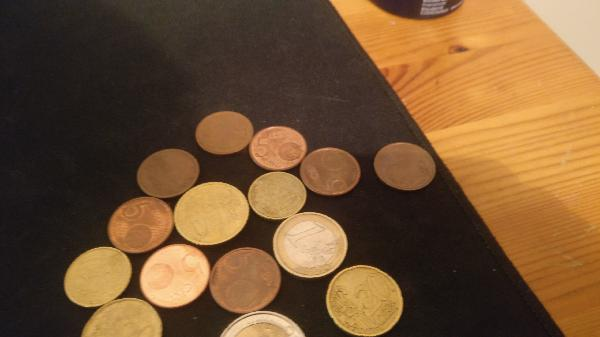Fifty Cent: (178, 183, 248, 241)
Five Cent: (137, 242, 209, 312), (209, 245, 284, 309), (105, 197, 174, 252), (135, 149, 199, 200), (374, 142, 435, 191), (304, 149, 364, 198), (195, 109, 253, 156), (253, 125, 308, 174)
One Euro: (271, 210, 350, 277)
Ten Cent: (63, 245, 133, 301), (248, 169, 307, 215)
Twenty Cent: (324, 265, 404, 333), (77, 299, 163, 337)
Two Euro: (217, 311, 311, 337)
